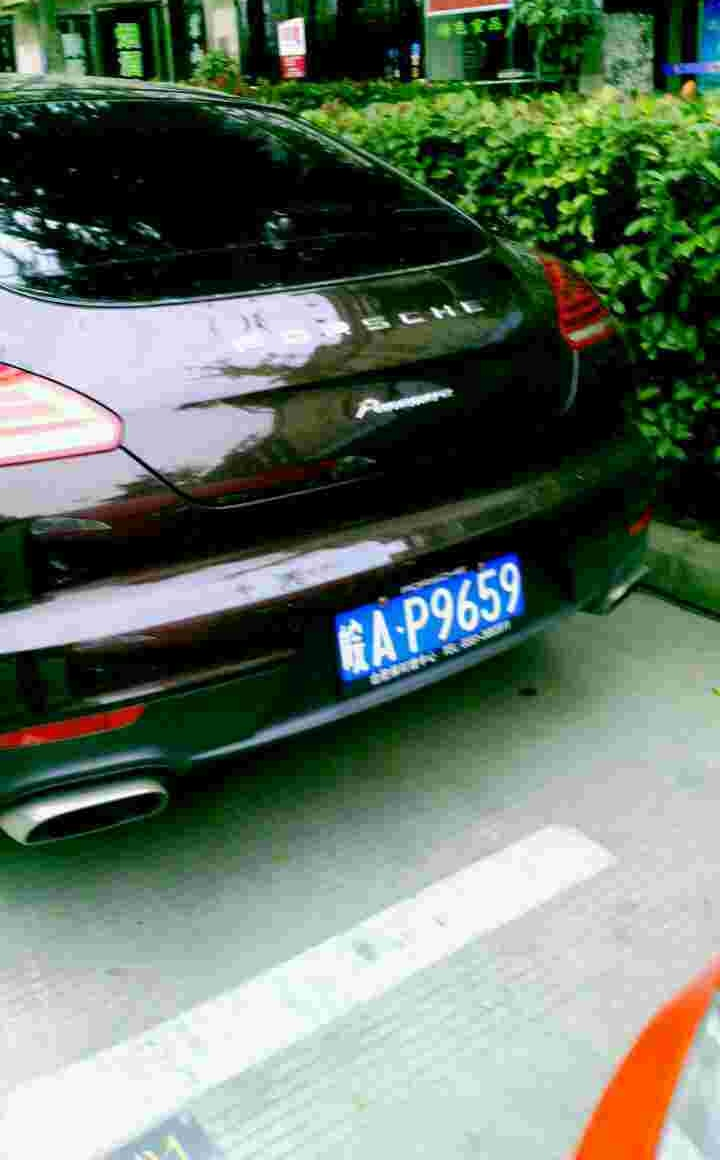license_plate: (338, 549, 521, 690)
